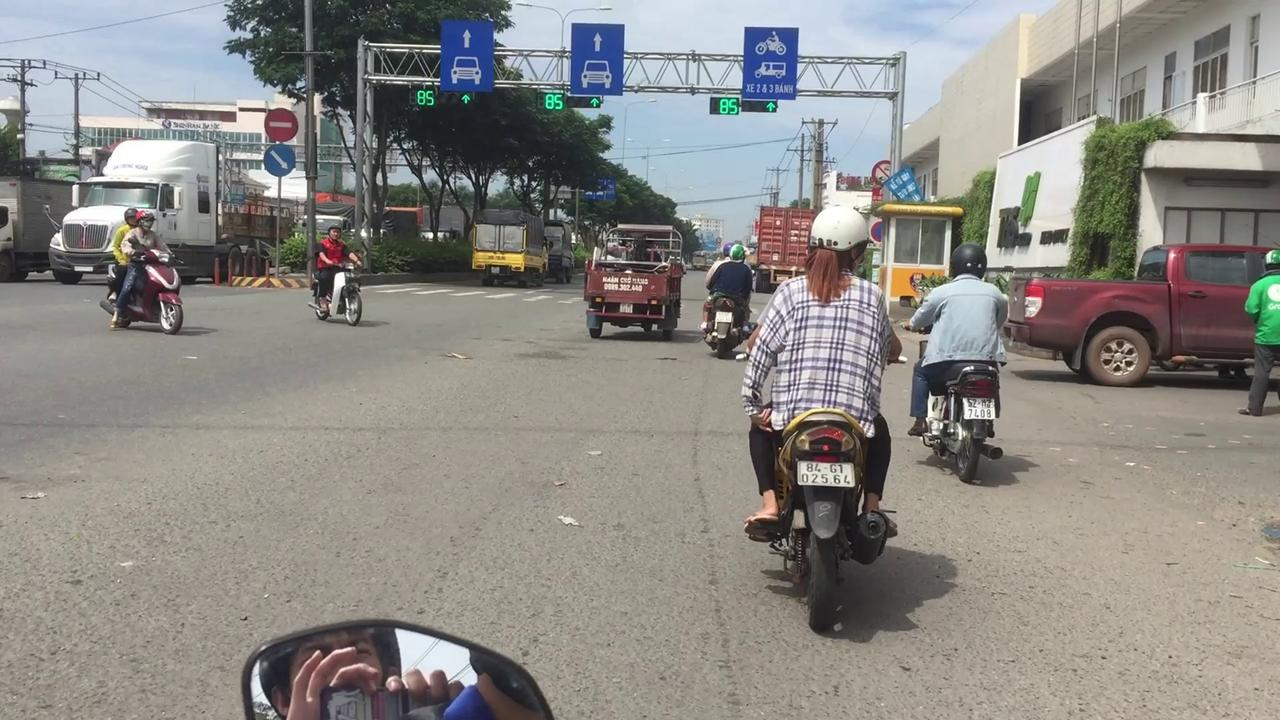DP.135: (258, 106, 300, 142)
P.124a: (438, 18, 494, 93), (570, 24, 626, 97)
P.130: (259, 142, 298, 178)
